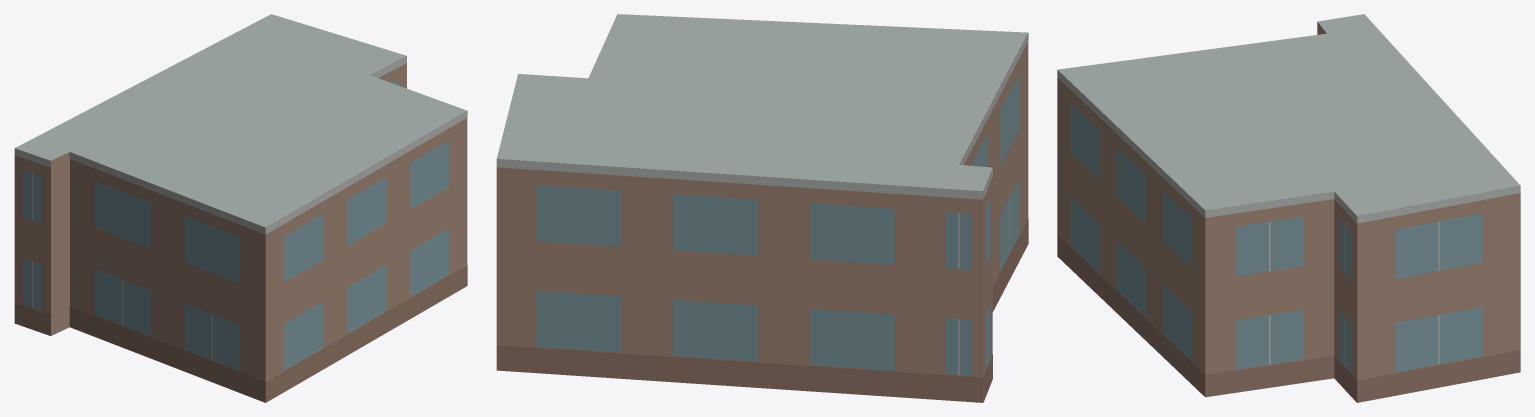
The model's file is survey-upis-32688005.glb.
3 views of the same model, side by side, from view 1: azimuth 30°, elevation 25°; view 2: azimuth 150°, elevation 25°; view 3: azimuth 270°, elevation 25° (orthographic). The views are drawn at different scales.
Visible parts, largest first — view 1: survey-upis-32688005.tmp; view 2: survey-upis-32688005.tmp; view 3: survey-upis-32688005.tmp.
Boxes of the visible parts, <box> form: survey-upis-32688005.tmp: <box>14,14,467,402</box>; survey-upis-32688005.tmp: <box>496,14,1028,402</box>; survey-upis-32688005.tmp: <box>1057,14,1520,402</box>.
Size of the model in its own units: 14.17 by 6.1 by 13.73.
